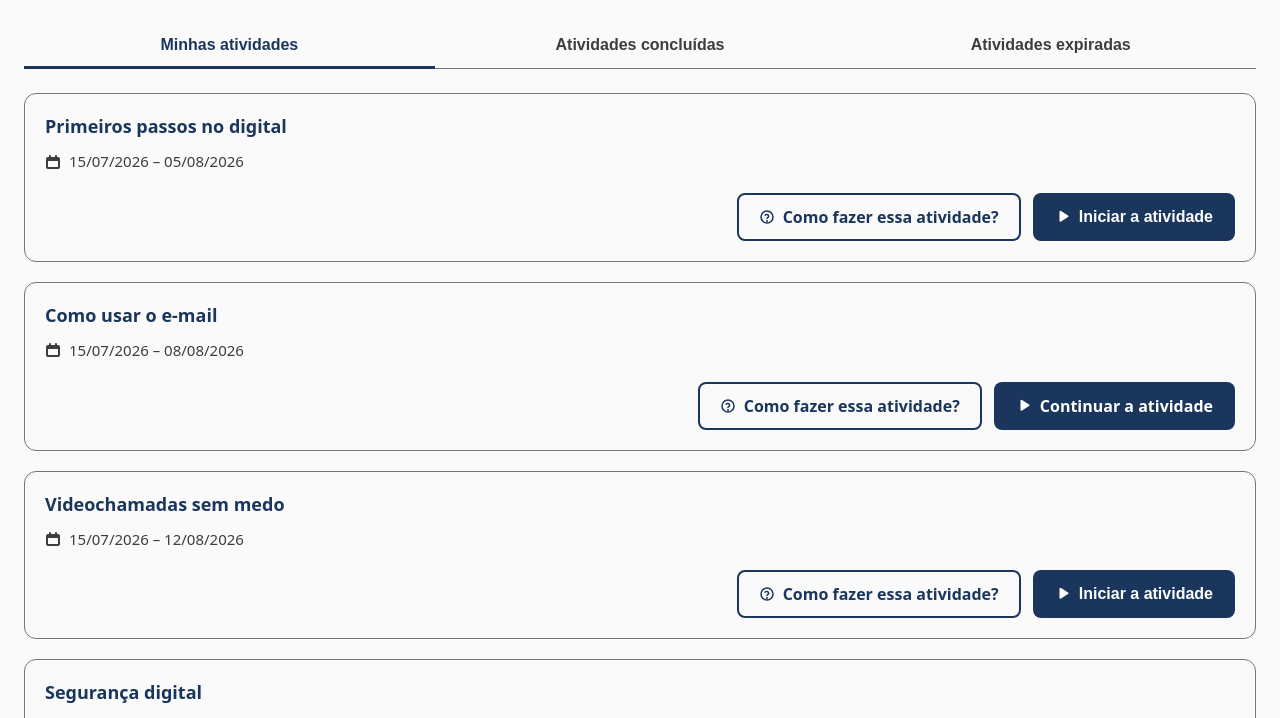
it: TaskListPanel › filtra atividades concluídas na aba correspondente
Click the tab "Atividades concluídas".
click(640, 46)  # box [435,24,845,69]
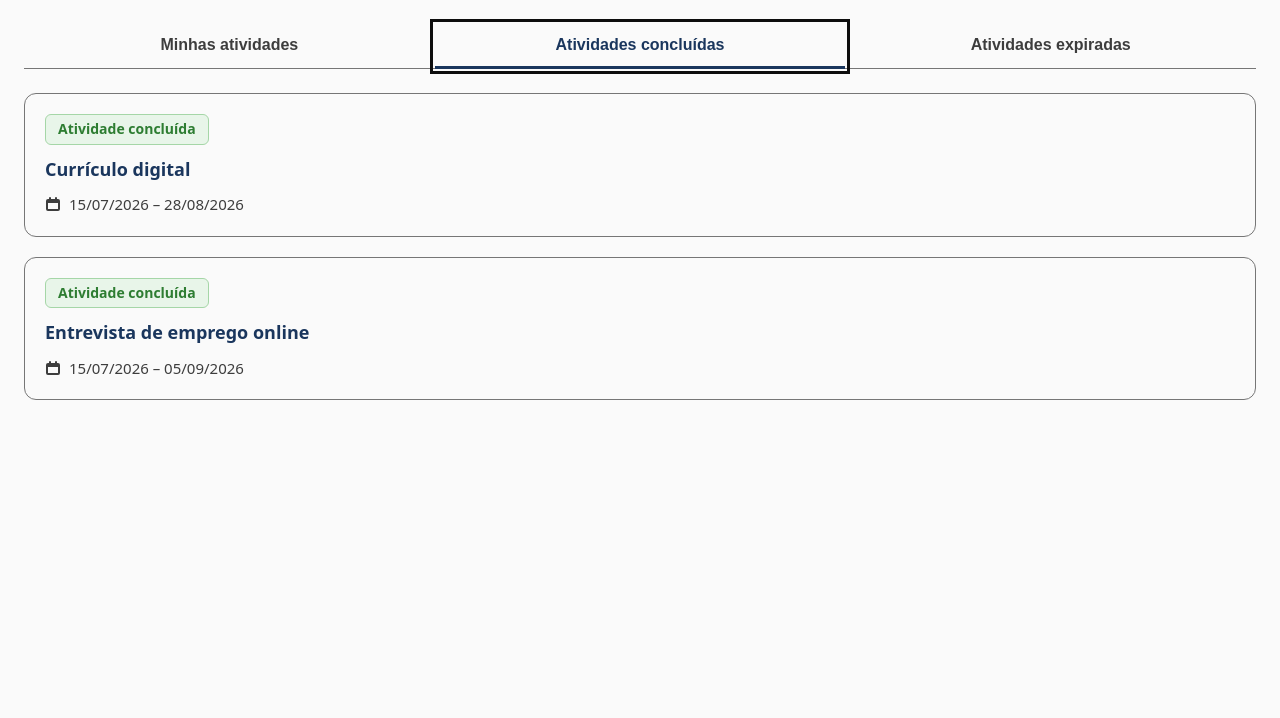
Result: the heading "Currículo digital" is shown at [45,157,190,181]
Result: the link "Como fazer essa atividade" is gone
Result: the heading "Primeiros passos no digital" is gone
